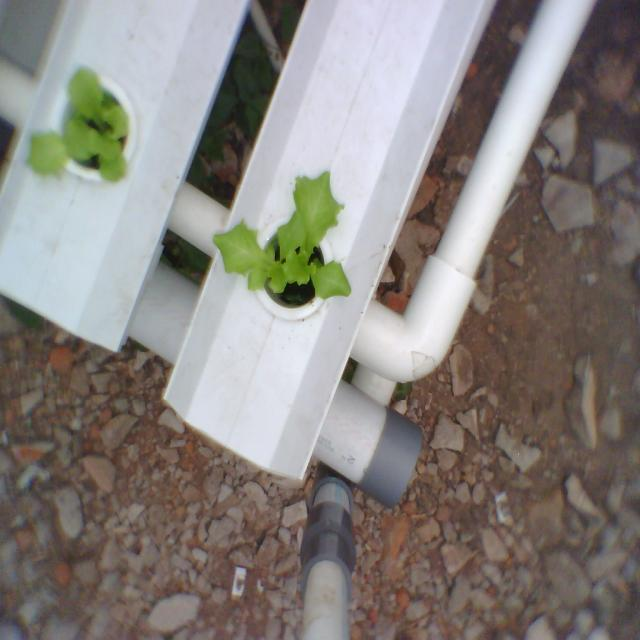FN: (205, 164, 359, 311), (25, 63, 135, 194)
